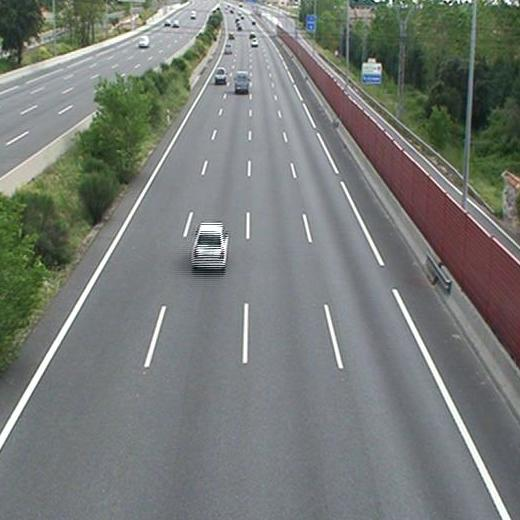car: (192, 223, 224, 266)
van: (234, 71, 248, 90), (216, 68, 226, 82), (224, 44, 234, 54)
